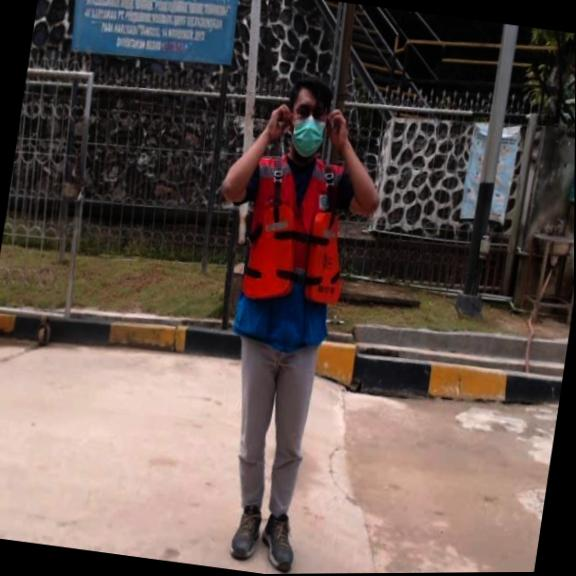safety_vest: (244, 189, 358, 312)
